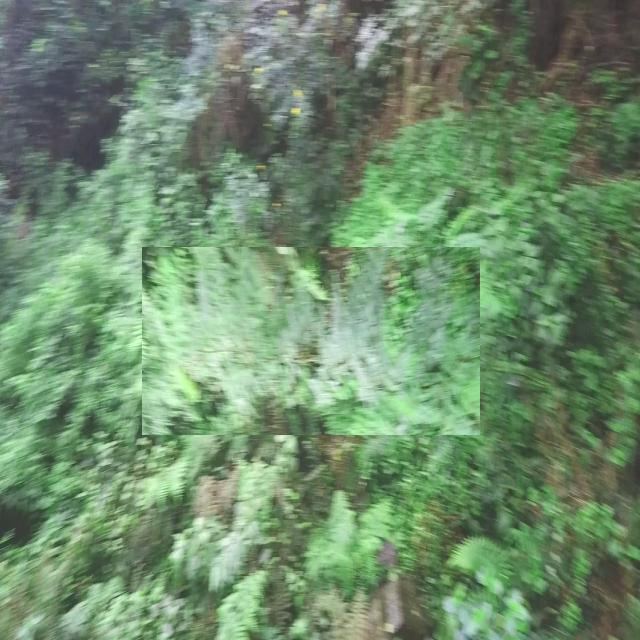Mysore-Thorn-Weed: (142, 248, 480, 436)
